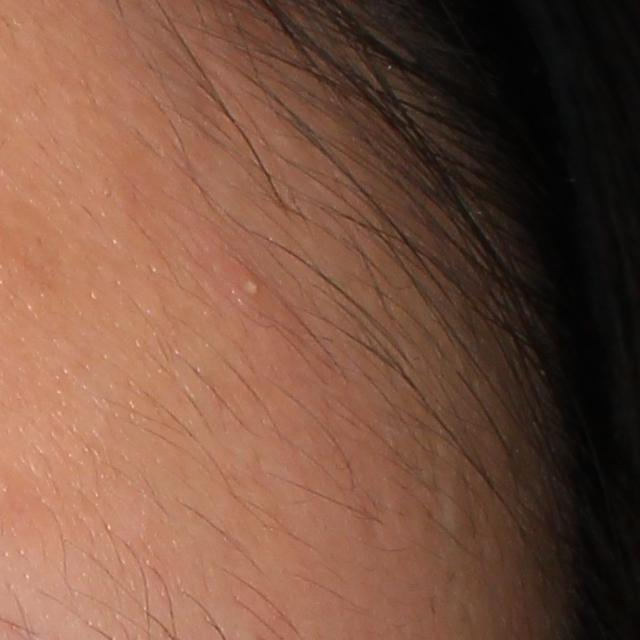pustule: (234, 272, 264, 302)
